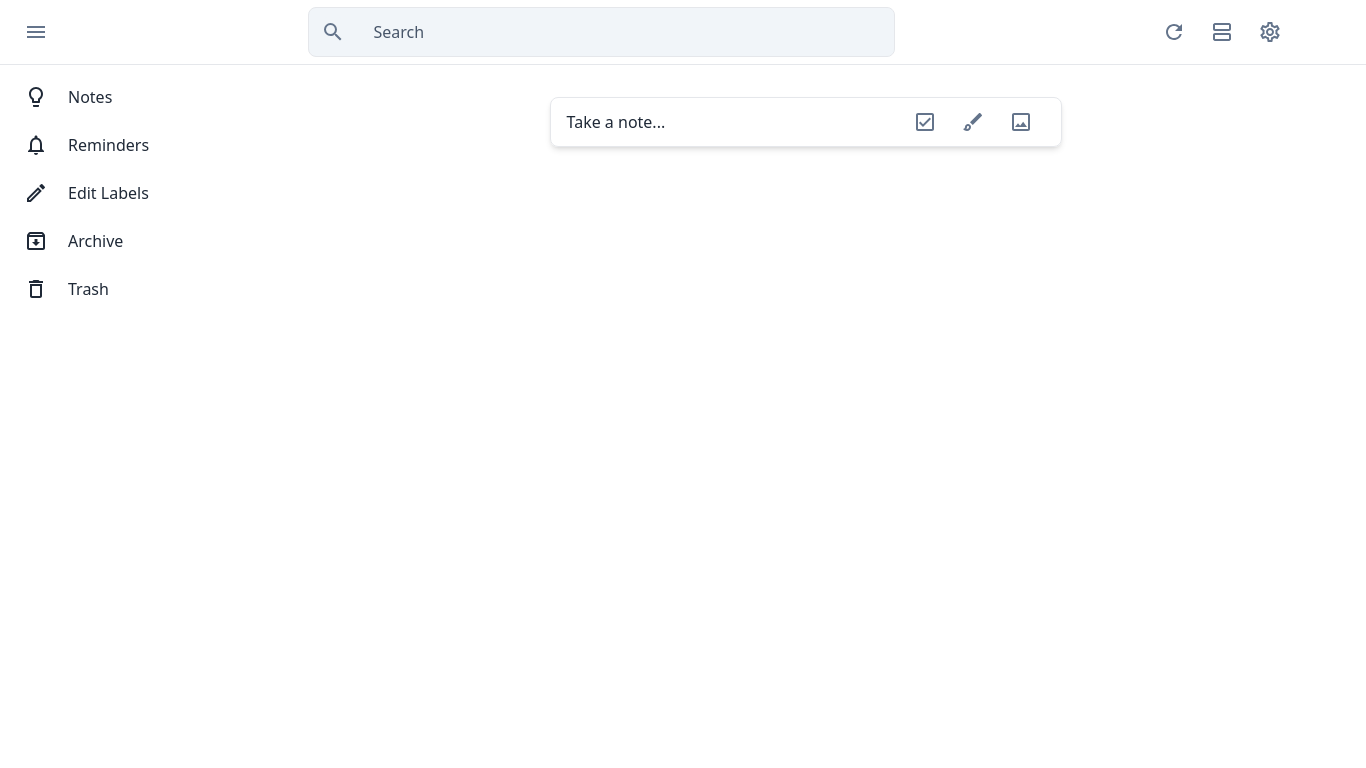
note editing › user edits the text content of a note
# make a new note
Click the text "Take a note...".
click(616, 122)  # box [566,111,665,133]
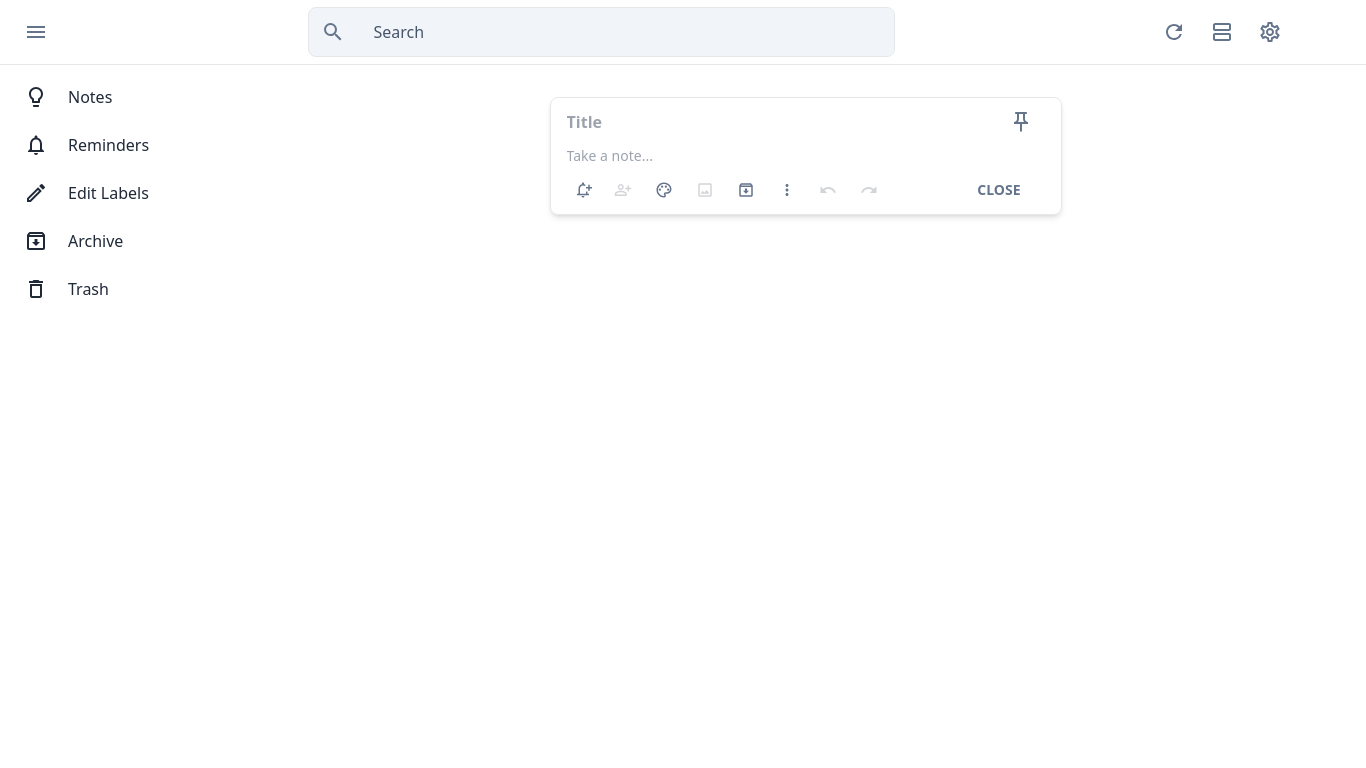
Type "This is a test note" into the text box with placeholder "Take a note...".
click(806, 156); type("This is a test note")  # box [566,146,1044,166]
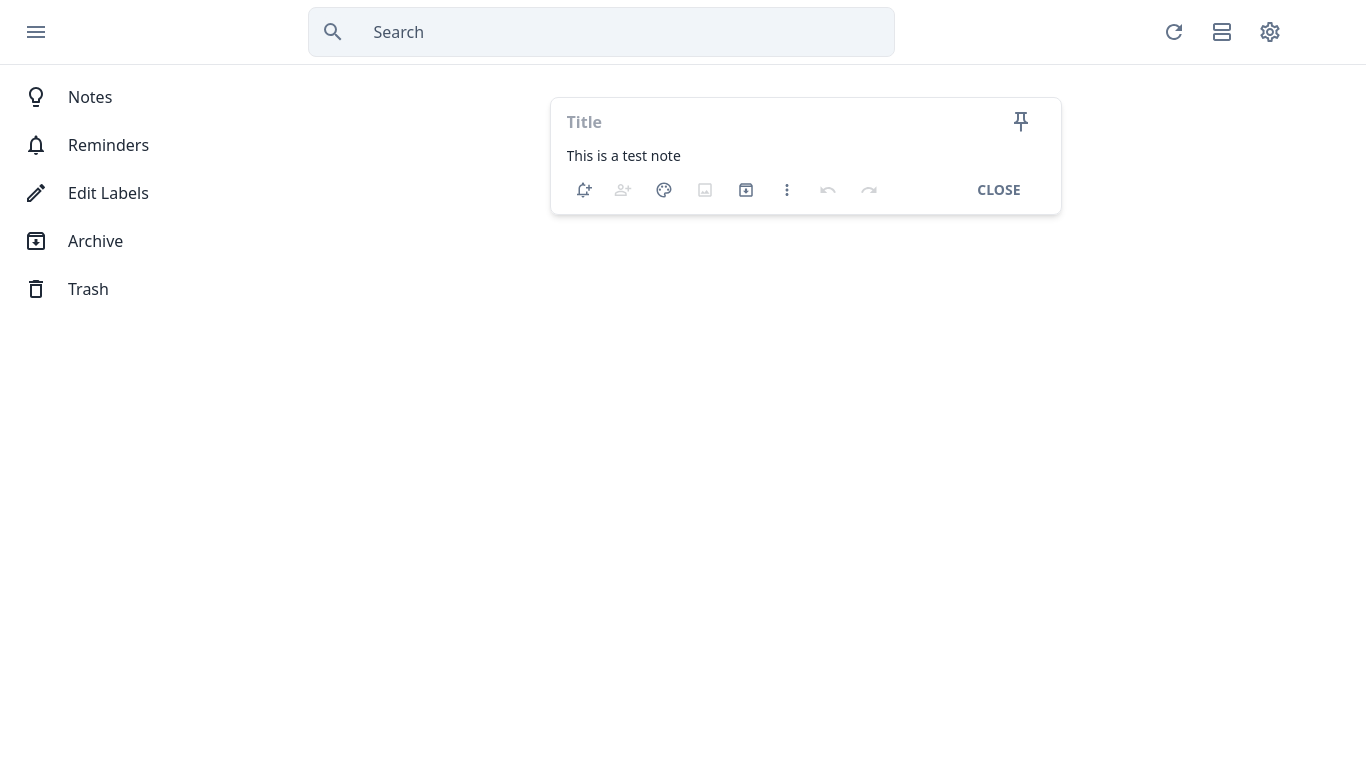
Click the button "Close".
click(999, 190)  # box [953,174,1045,206]
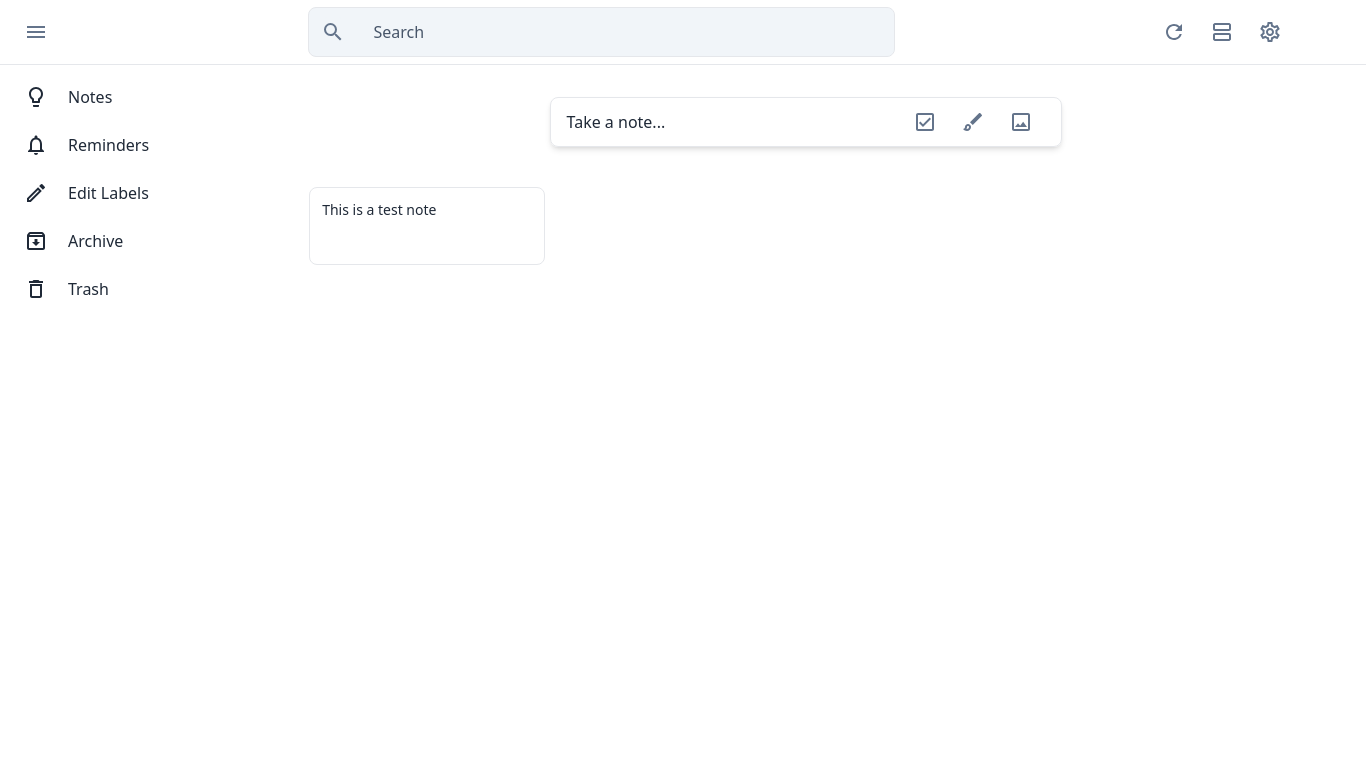
Expected: the text "This is a test note" is shown
Click the text "This is a test note".
click(379, 210)  # box [322,200,436,219]
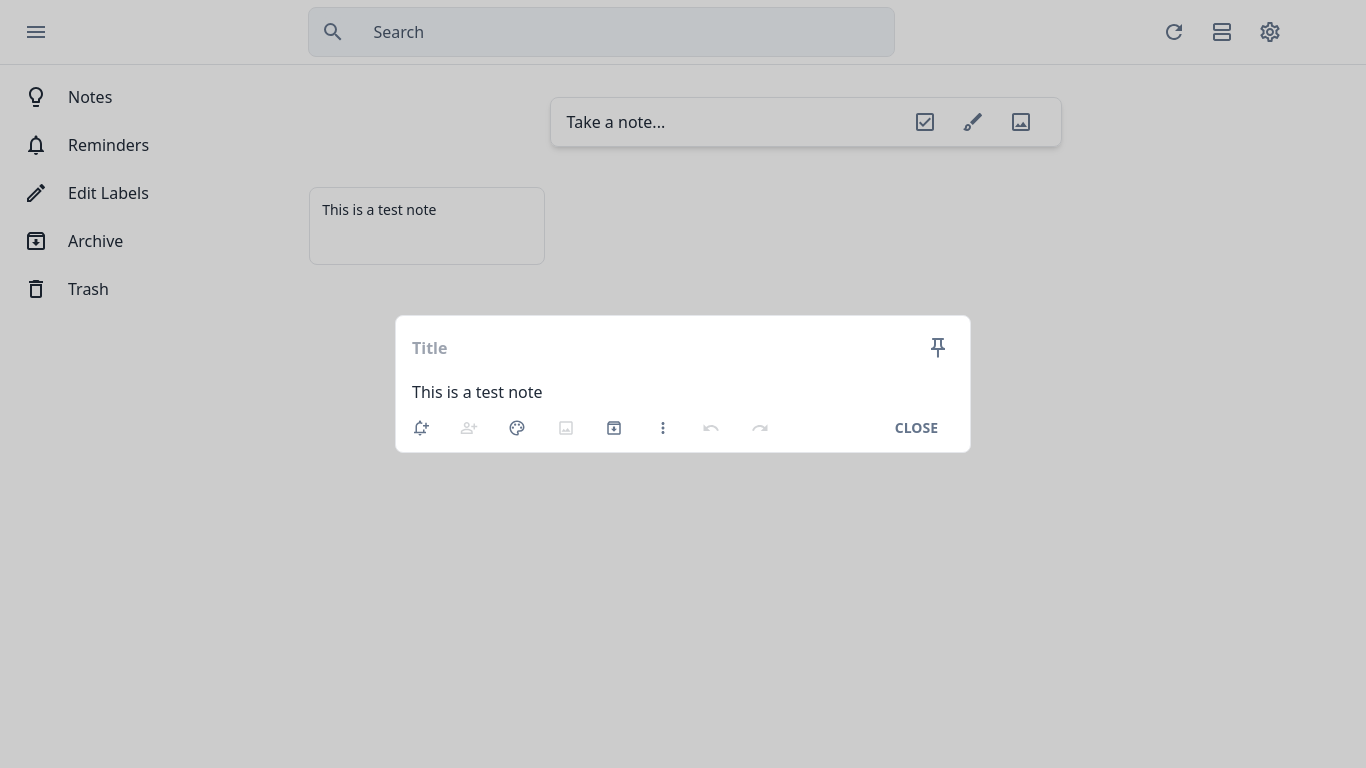
Type " edited" into the text box named "Note Content".
click(683, 392); type(" edited")  # box [404,372,962,412]
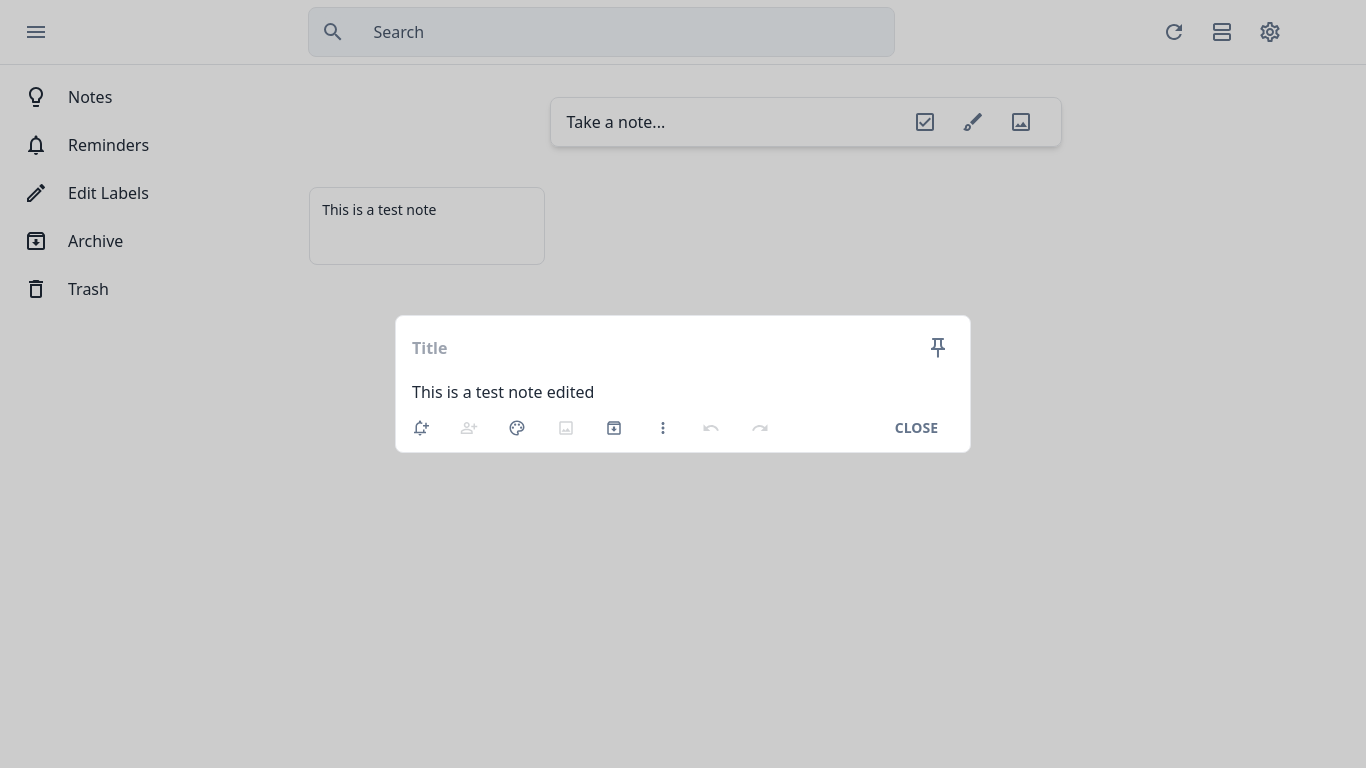
Expected: the text box named "Note Content" holds "This is a test note edited", [404,372,962,412]
Click the button "Close".
click(916, 428)  # box [871,412,962,444]
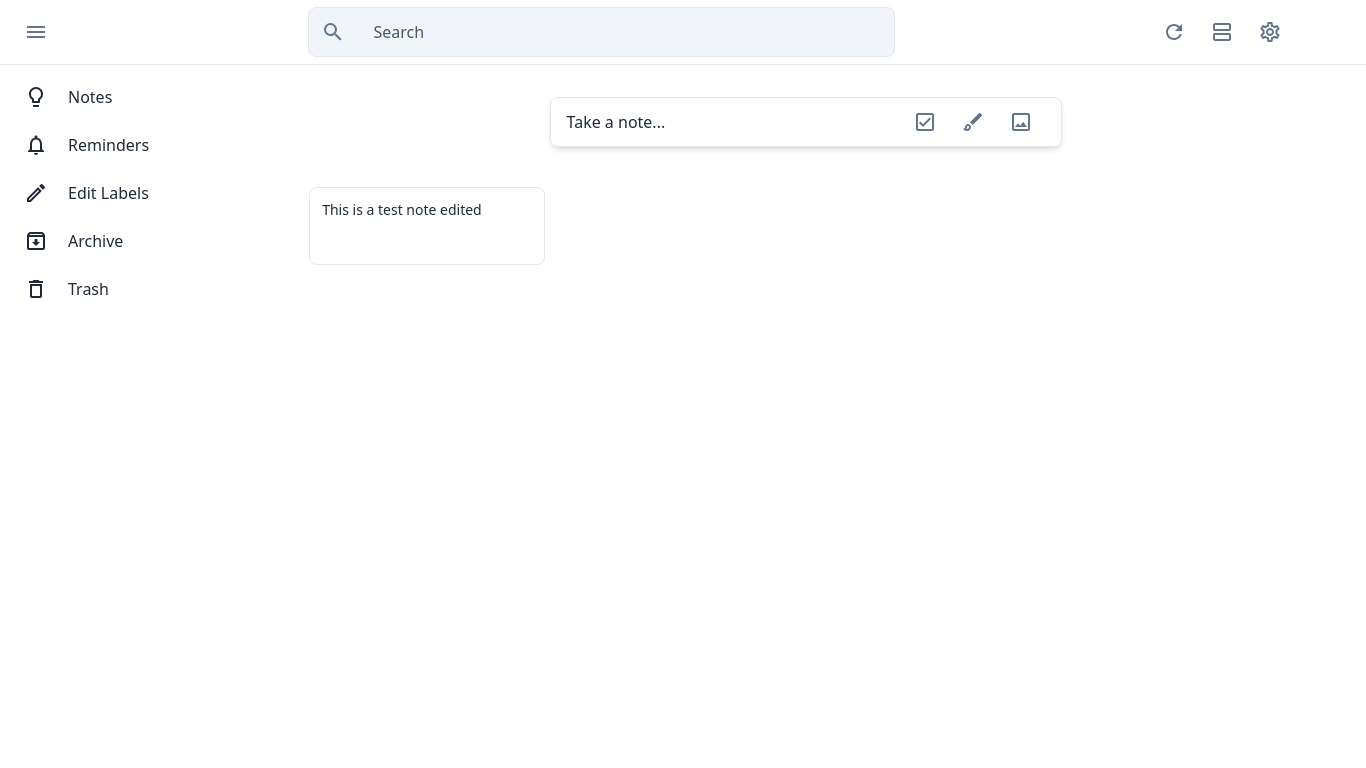
Expected: the text "This is a test note edited" is shown, [322,200,482,219]
